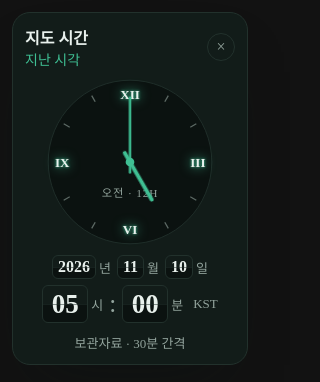
it: 지도 시계(표시 전용) › 지난 시각이면 그렇게 표시하고, 접으면 작은 버튼이 된다
Expected: the text "지난 시각" is shown, [25,53,80,68]
Click the button named "지도 시계 접기".
click(221, 47)  # box [207,33,235,61]
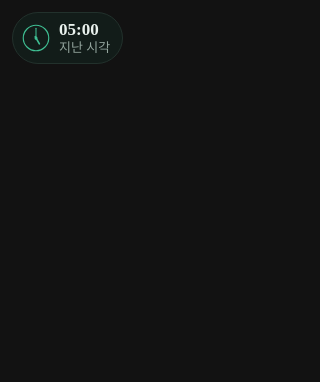
Now the button with aria-label "지도 시계 열기" shows "05:00", box [12,12,123,64]
